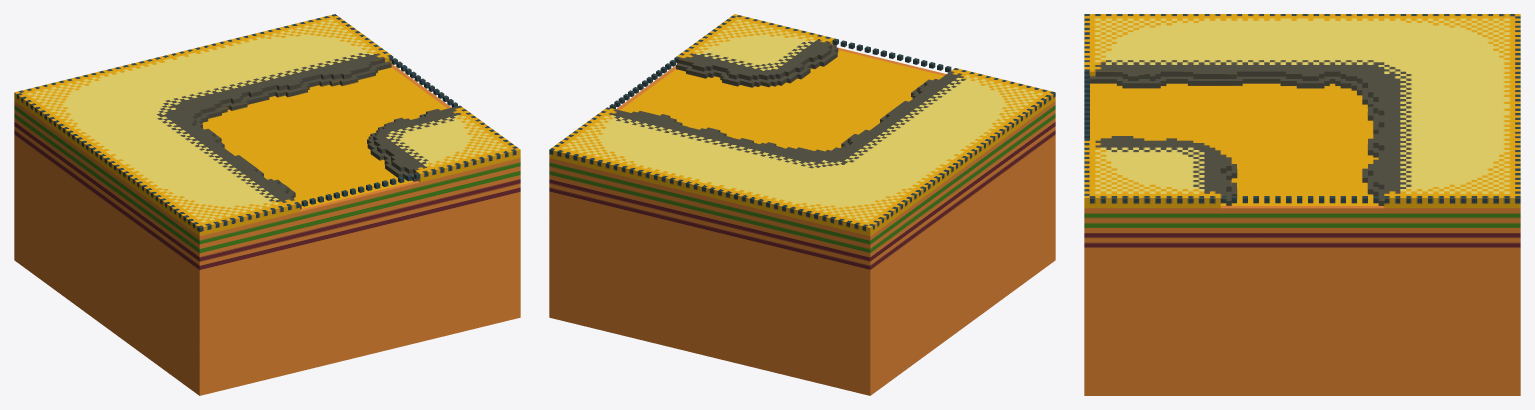
File: sand_river_2_tile.glb
3 renders of one model, left to right at view 1: azimuth 30°, elevation 25°; view 2: azimuth 150°, elevation 25°; view 3: azimuth 270°, elevation 25°, orthographic. The views are drawn at different scales.
Visible parts, largest first — view 1: sand_river_2_tile; view 2: sand_river_2_tile; view 3: sand_river_2_tile.
Boxes of the visible parts, x1=… form: sand_river_2_tile: x1=14, y1=14, x2=520, y2=395; sand_river_2_tile: x1=549, y1=14, x2=1055, y2=395; sand_river_2_tile: x1=1084, y1=14, x2=1520, y2=395.
Bounding box in the file's own units: 8 × 4 × 8.
1 material, 1 textured.
